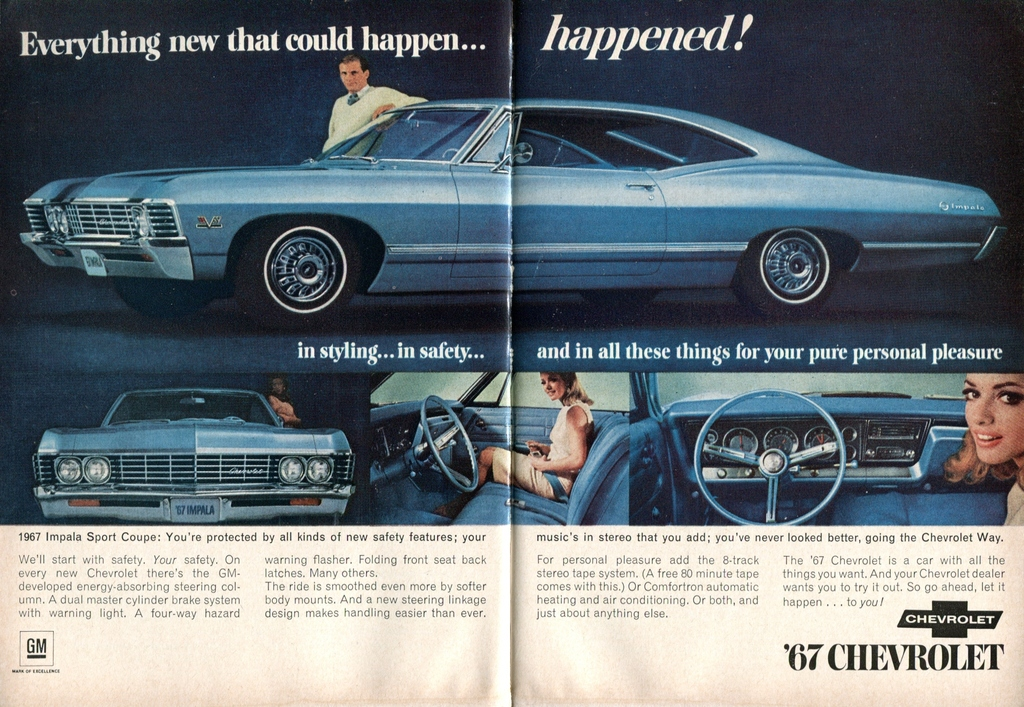Car: (20, 99, 1007, 332), (628, 373, 1016, 525), (32, 387, 353, 526), (369, 370, 628, 526)
